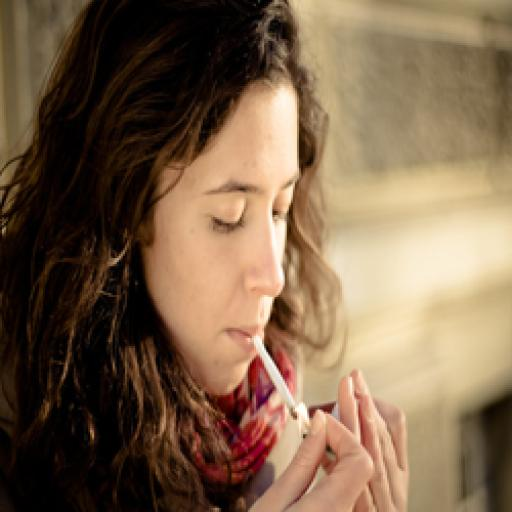terdeteksi merokok: (205, 202, 360, 448)
